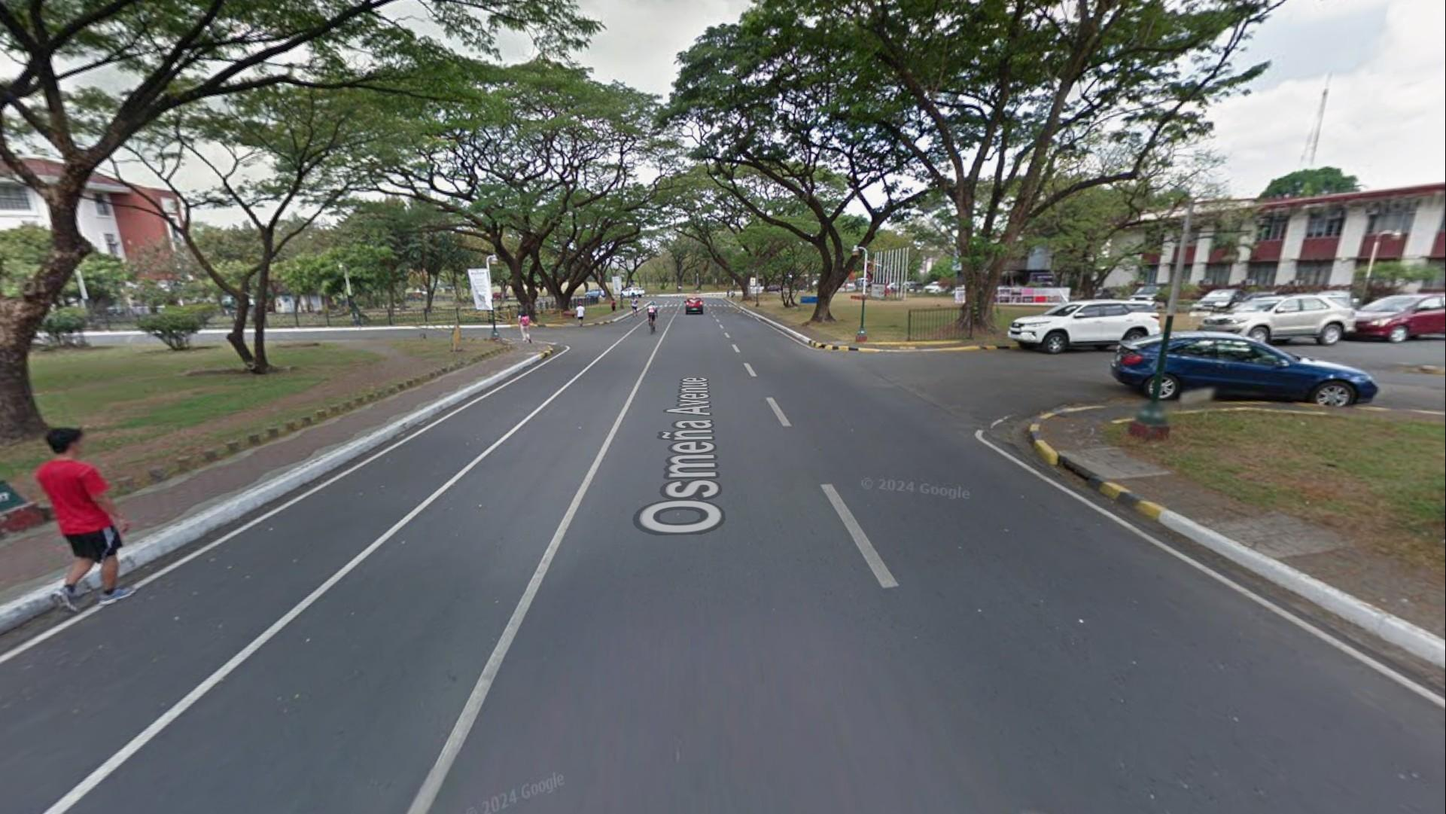cyclist: (646, 301, 659, 335)
pedestrian: (41, 424, 138, 619), (517, 308, 534, 344), (575, 302, 585, 328), (630, 294, 639, 318), (610, 297, 617, 313), (731, 287, 735, 301)
